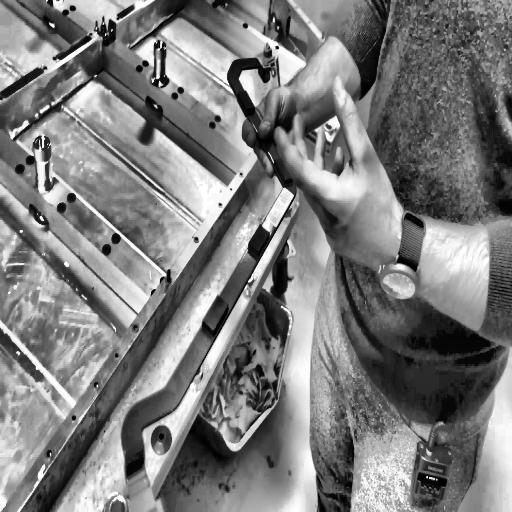busbar: (115, 38, 298, 512)
